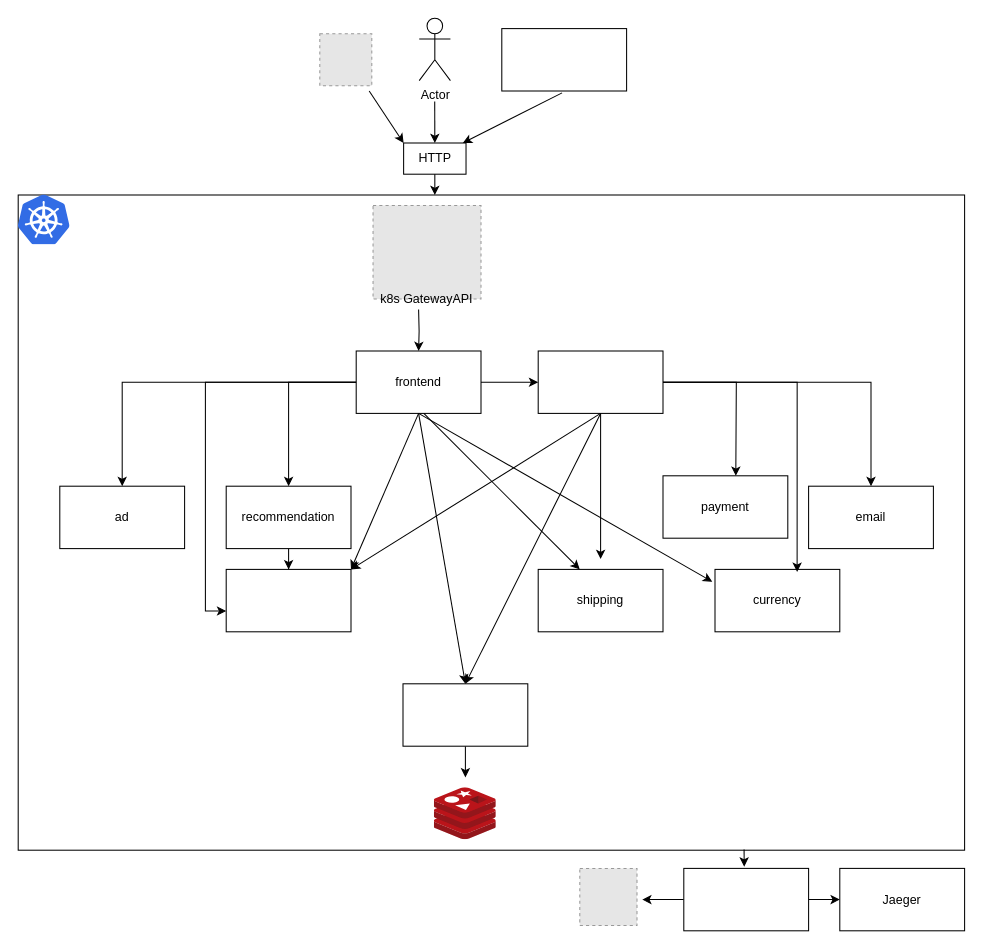
Some shapes in this 983 by 950 pixel diagram are drawn without their labels. Grey dashed boxes stand in for pictures. The shapes that lost their labels are listed below. From the top down, each one's centre as x and y in pixels, then its label:
At point (564, 59): "load-generator".
At point (600, 381): "checkout".
At point (288, 600): "product-catalog".
At point (465, 714): "cart".
At point (746, 899): "Otelcollector".
